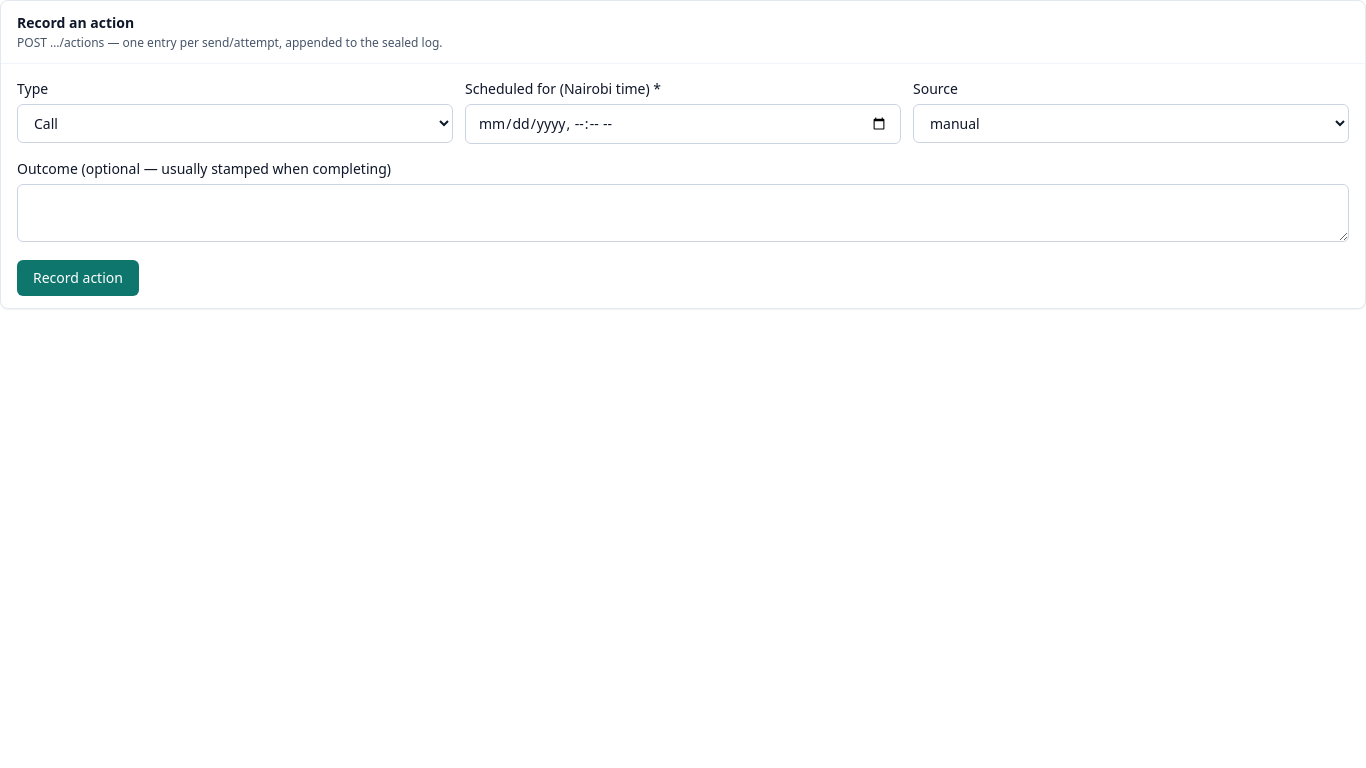
Scenario: CaseRecordActionPanel submission › surfaces 403 DUNNING_CONSENT_REQUIRED verbatim — nothing was sent
Select "SMS" in the dropdown labelled "Type" at (235, 124), box x1=17 y1=104 x2=453 y2=143
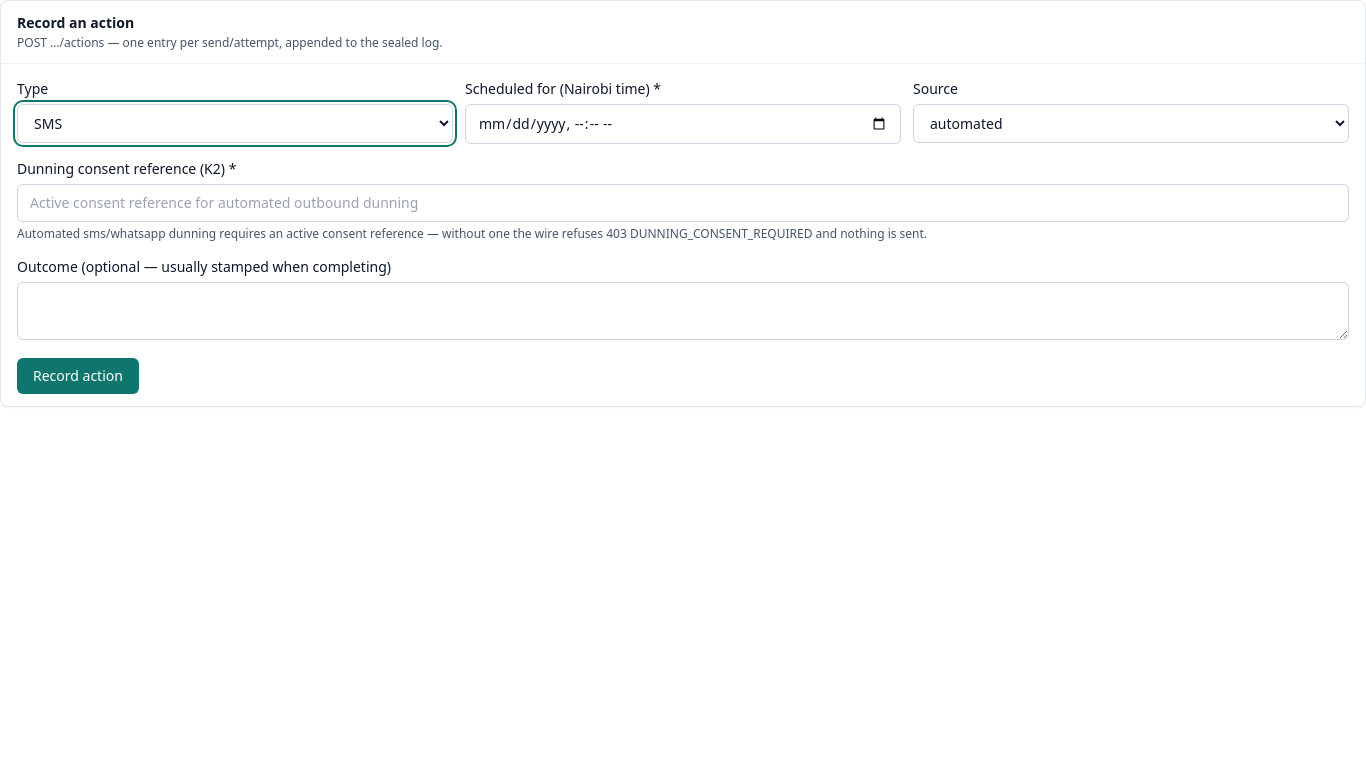
Type "2026-09-02T09:00" into the field labelled "Scheduled for (Nairobi time) *" at (683, 124), box x1=465 y1=104 x2=901 y2=144
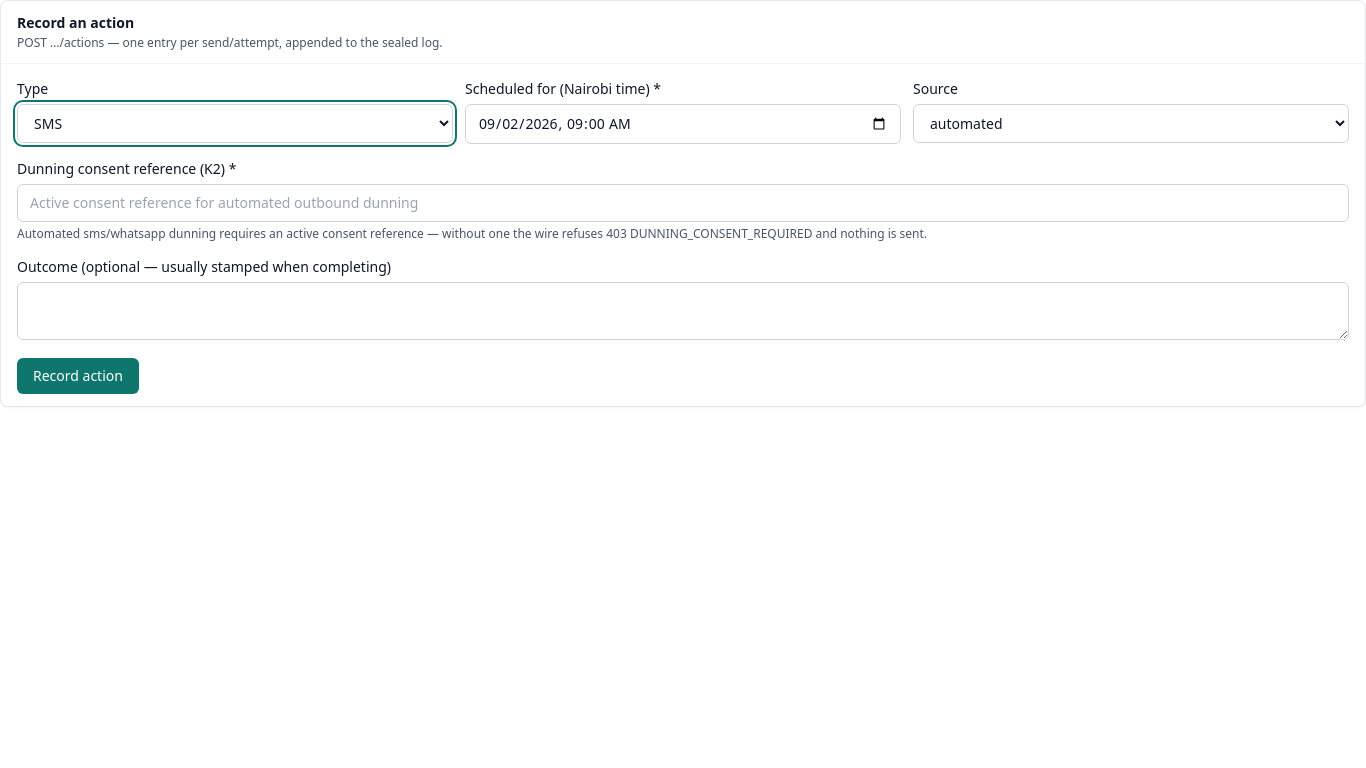
Type "stale-ref" into the field labelled "Dunning consent reference (K2) *" at (683, 203), box x1=17 y1=184 x2=1349 y2=222
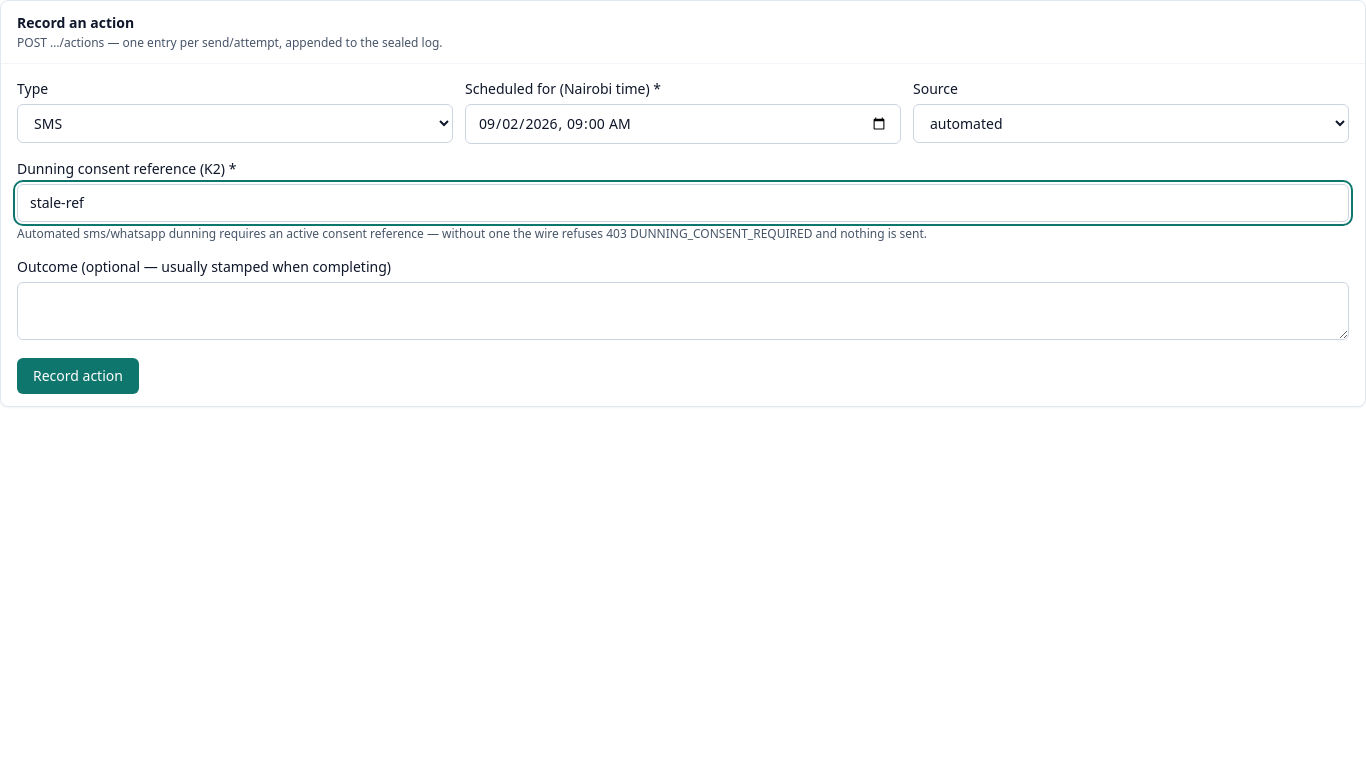
Click the button "Record action" at (78, 376), box x1=17 y1=358 x2=139 y2=394
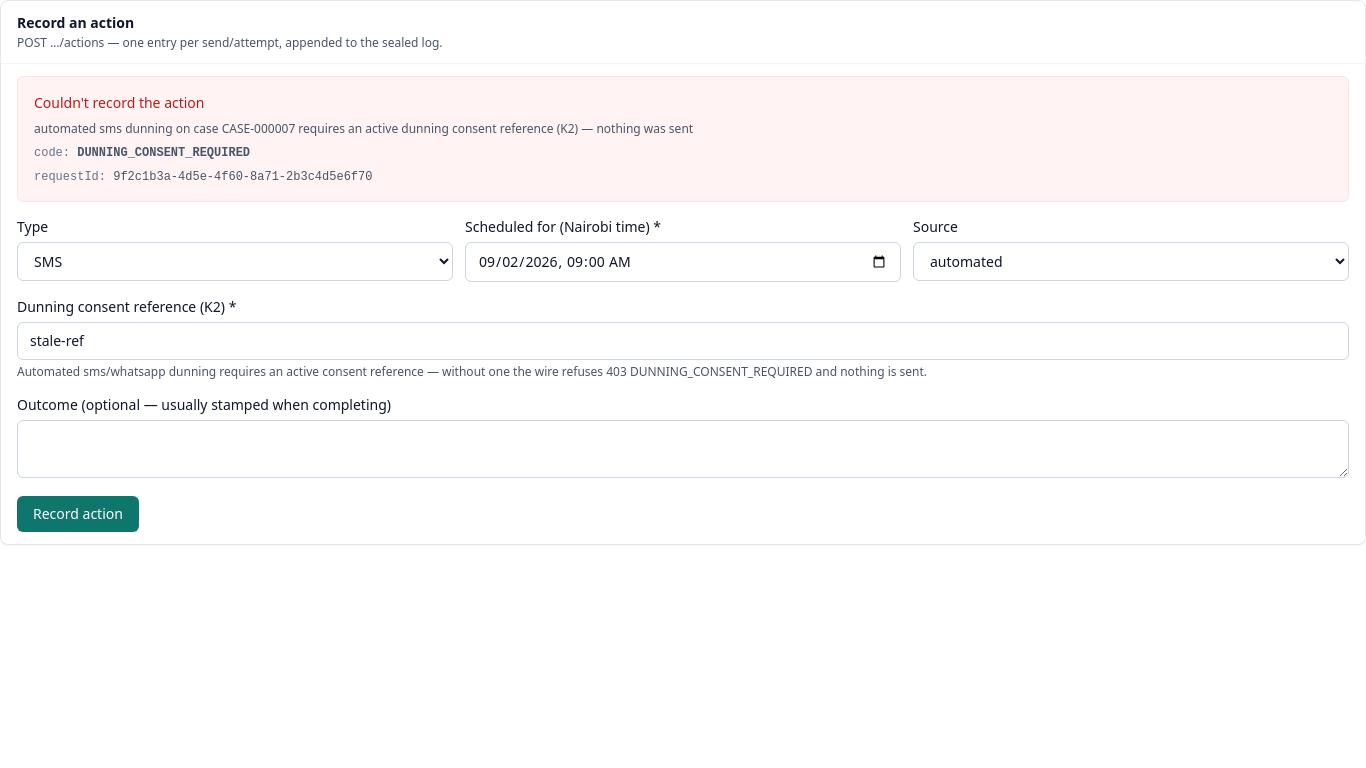
Result: the message shows "code: DUNNING_CONSENT_REQUIRED" at x1=17 y1=76 x2=1349 y2=202
Result: the message shows "9f2c1b3a-4d5e-4f60-8a71-2b3c4d5e6f70" at x1=113 y1=170 x2=372 y2=184
Result: the message shows "nothing was sent" at x1=34 y1=120 x2=693 y2=137
